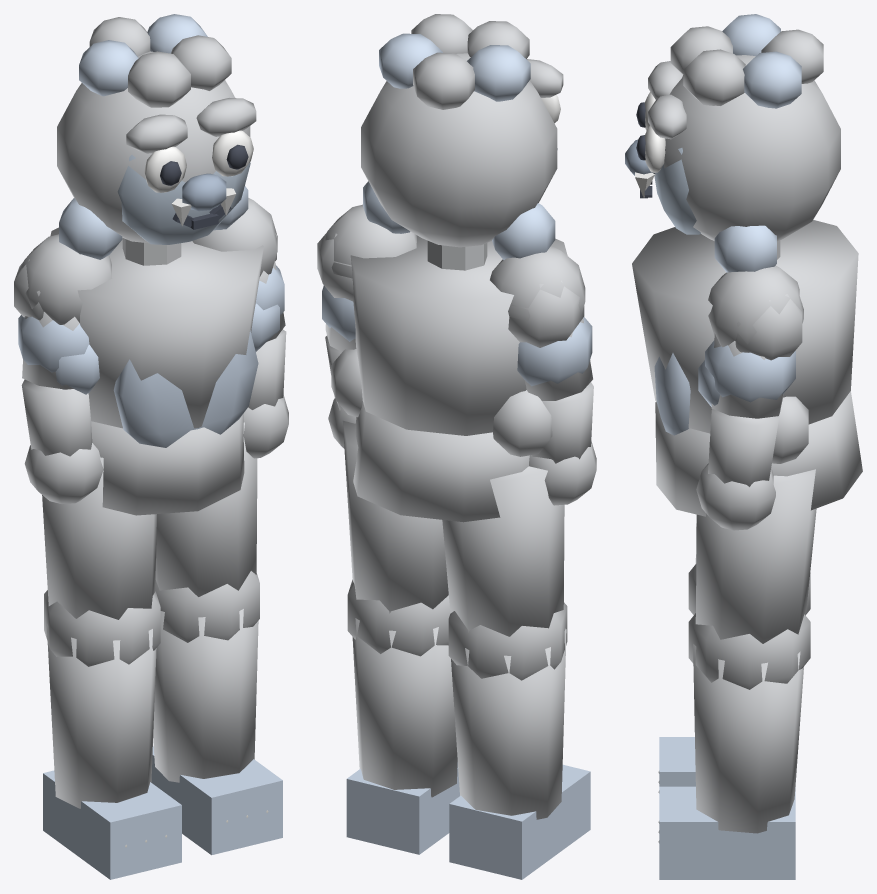
Rendered from meeple_16_yeti_stand.glb.
The picture shows the model from 3 angles, left to right: view 1: azimuth 30°, elevation 25°; view 2: azimuth 150°, elevation 25°; view 3: azimuth 270°, elevation 25°; orthographic projection.
Parts seen in each view (by area): view 1: meeple_16_yeti_stand; view 2: meeple_16_yeti_stand; view 3: meeple_16_yeti_stand.
Part boxes in pixels (x1,y1,x2,y2): meeple_16_yeti_stand: (14,14,288,879); meeple_16_yeti_stand: (317,14,596,879); meeple_16_yeti_stand: (625,14,862,879).
Bounding box in the file's own units: 0.5388 × 1.59 × 0.4275.
